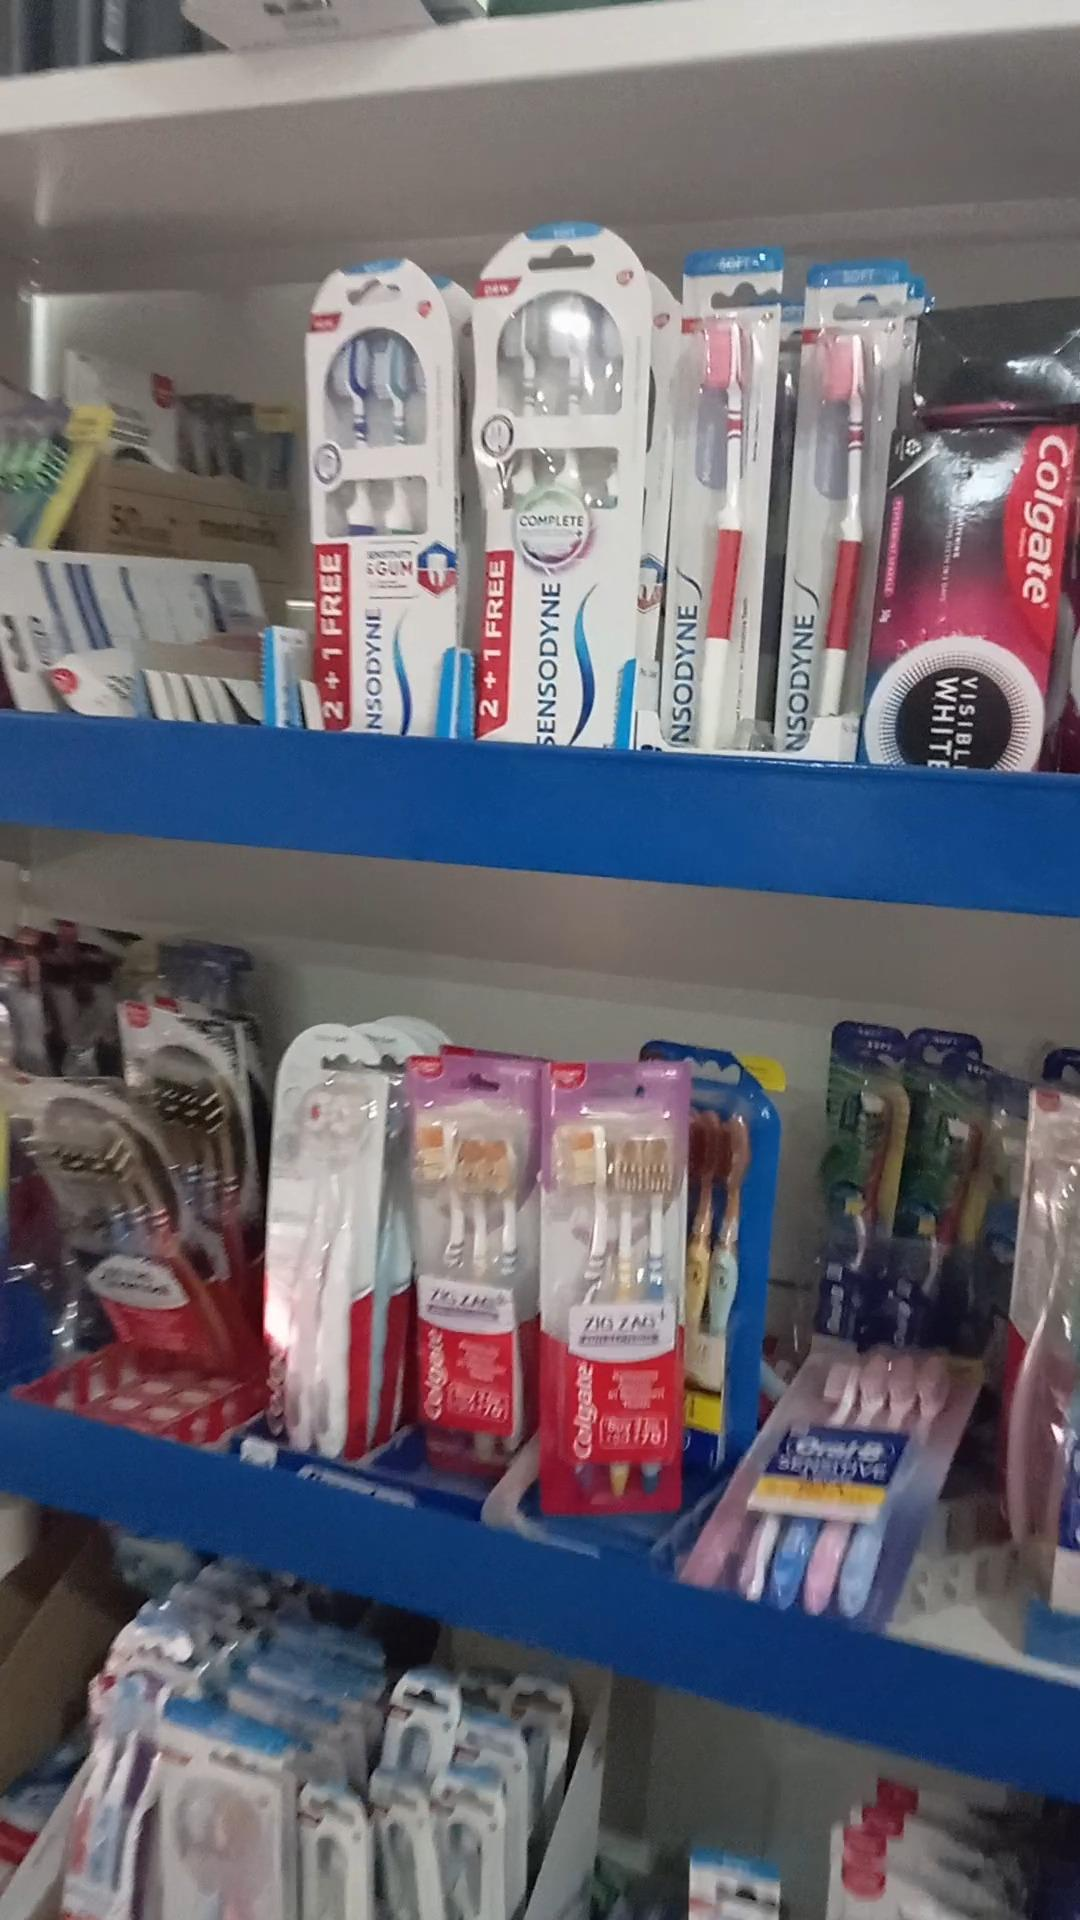10: (750, 1345, 930, 1631)
16: (310, 260, 447, 735)
4: (471, 227, 629, 753)
liquid soap: (16, 1083, 187, 1371)
